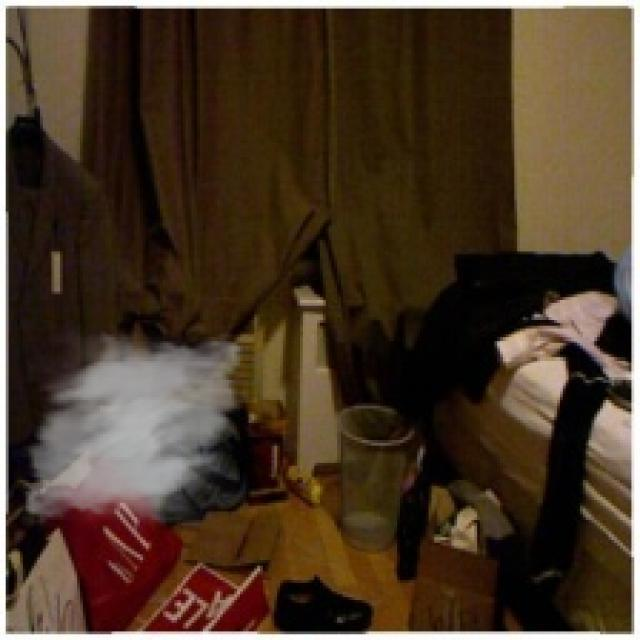Smoke: (15, 317, 252, 534)
